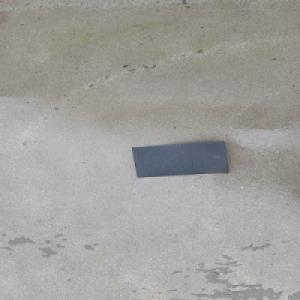PaintChip: (131, 139, 230, 178)
